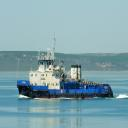tugboat: (17, 49, 116, 103)
